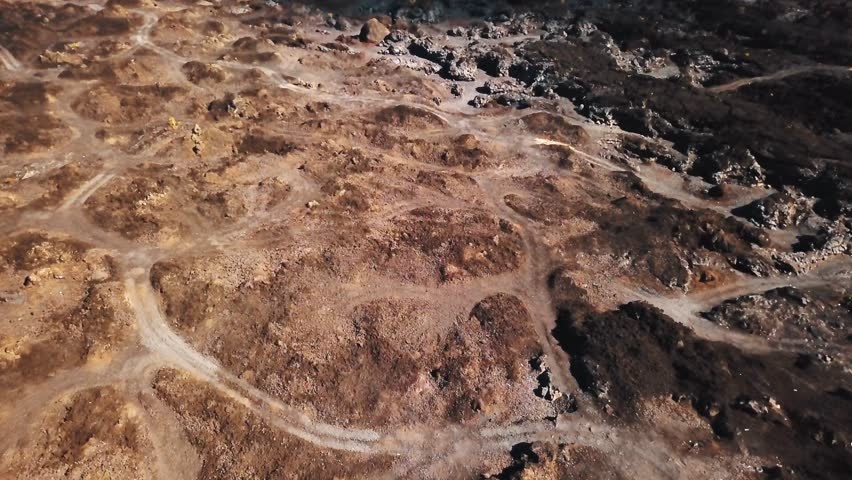volcanic_rock: (181, 220, 543, 414), (545, 263, 847, 477)
